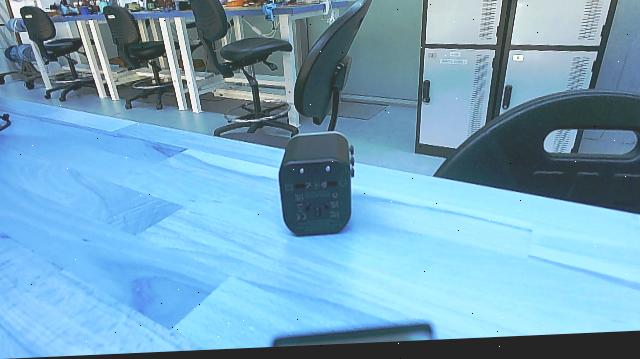adapter: (278, 133, 354, 241)
